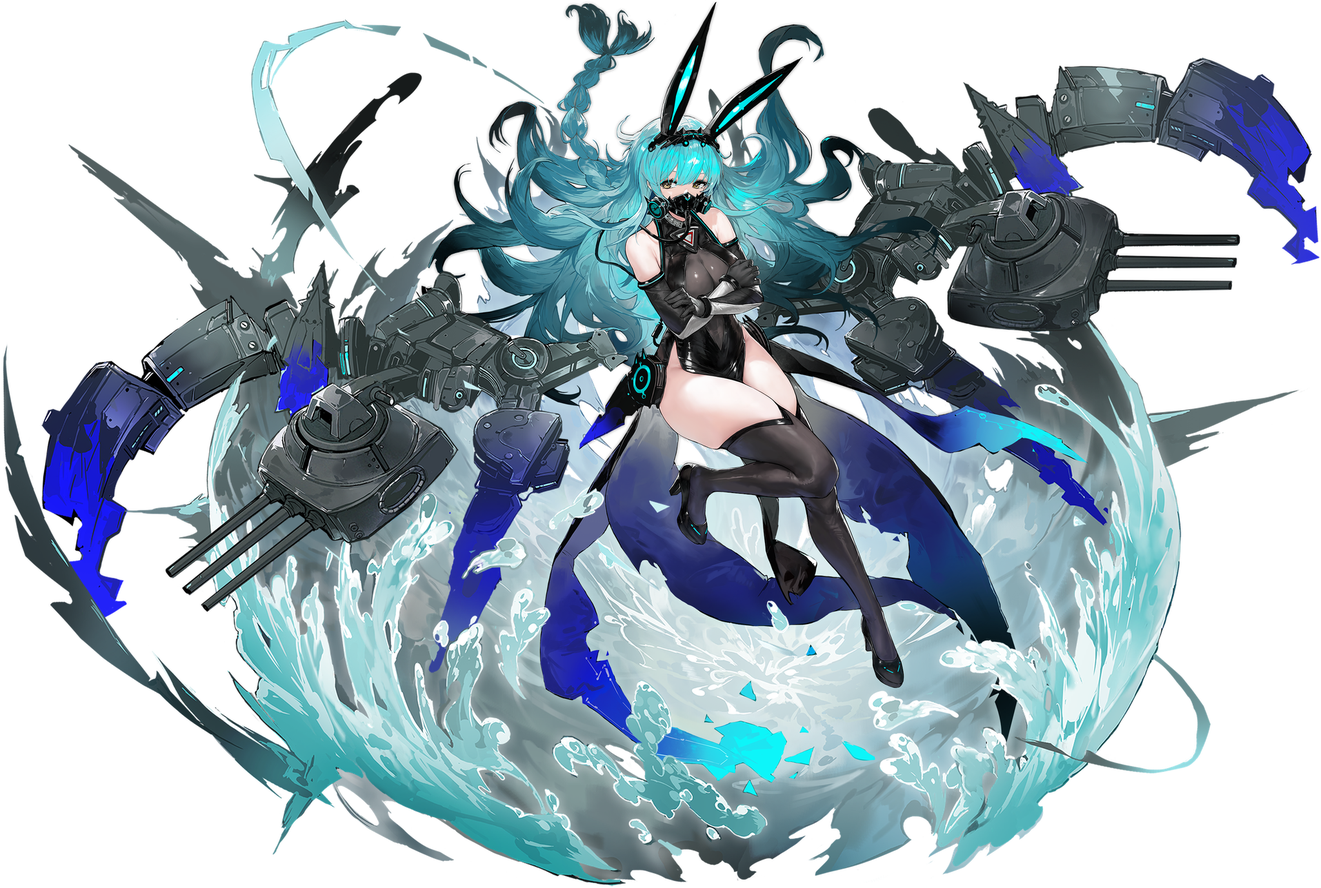person: (537, 93, 1058, 722)
